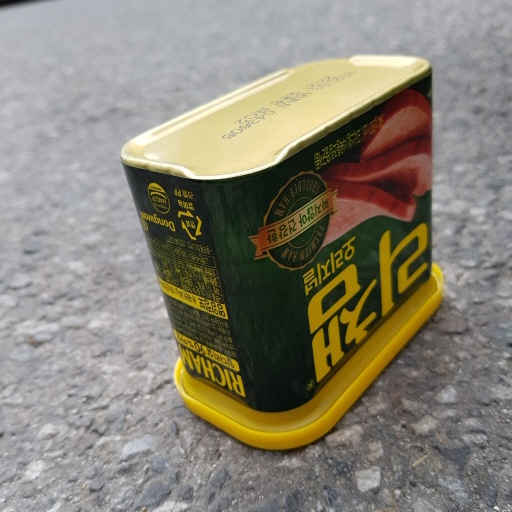Metal_2: (116, 52, 450, 453)
